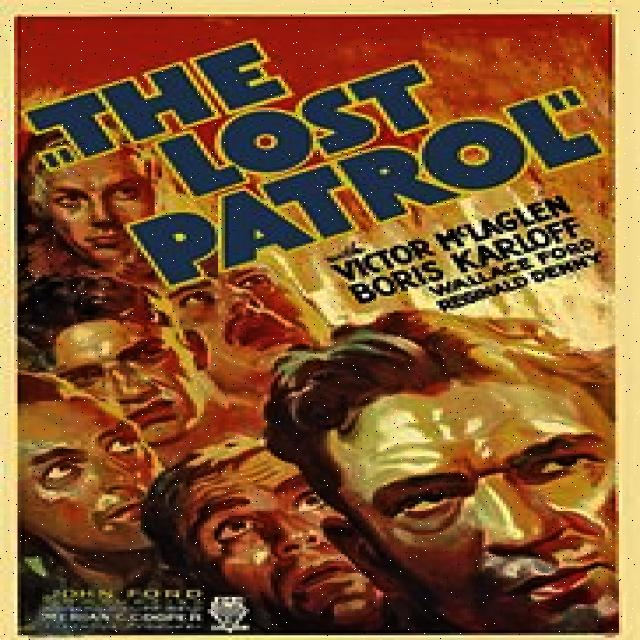movie-judul: (27, 40, 611, 306)
picture: (19, 134, 618, 632)
